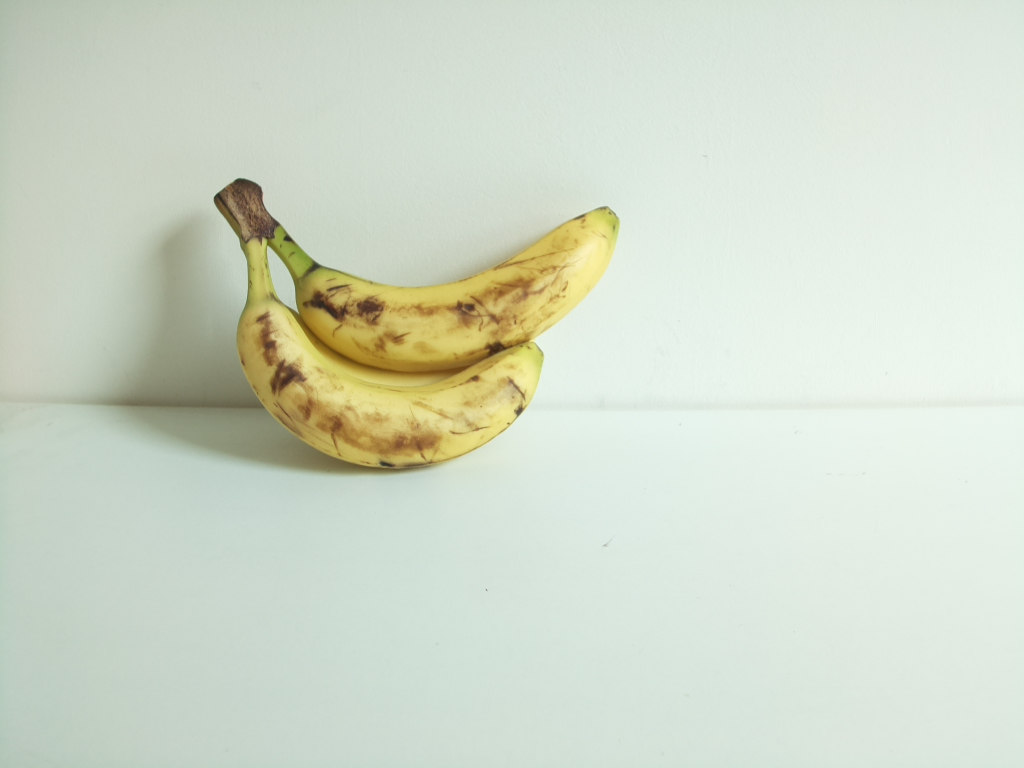banana: (215, 180, 542, 470), (217, 173, 619, 370)
